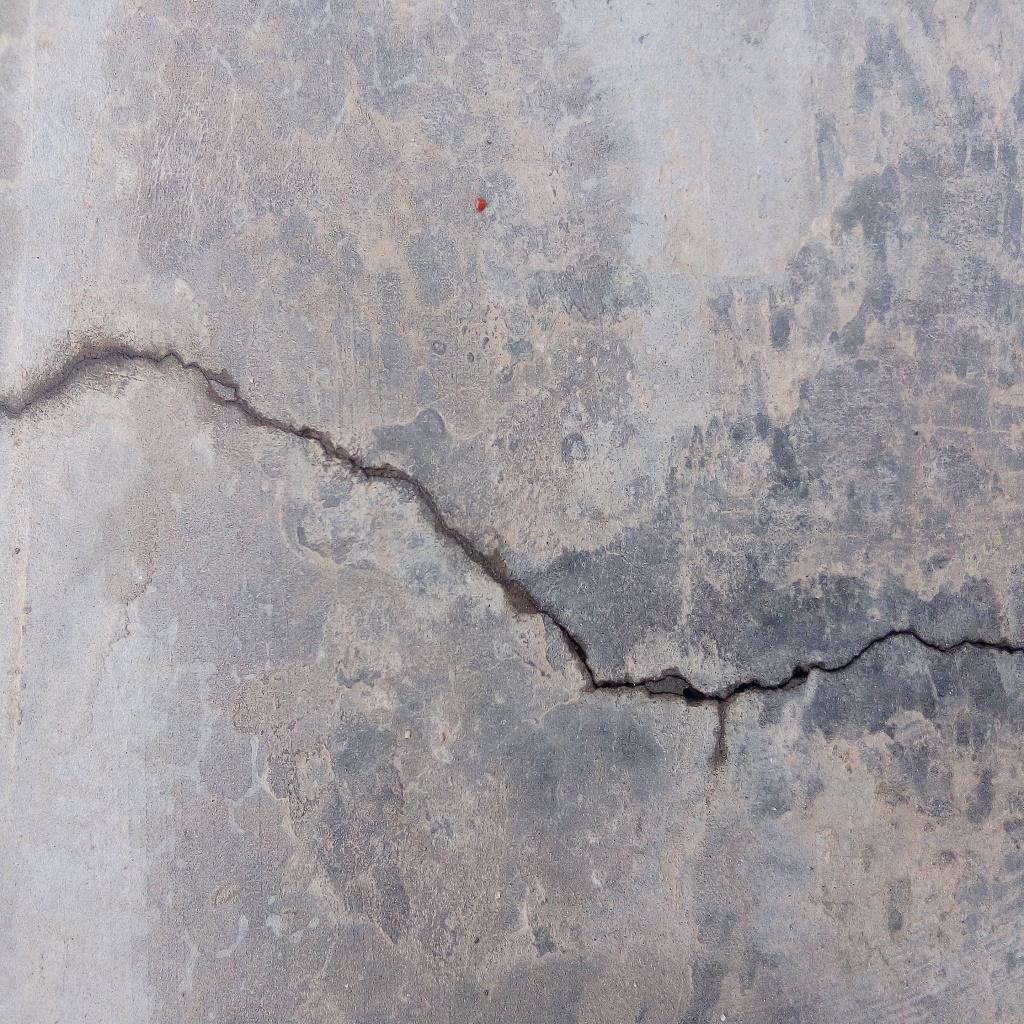Crack: (1, 340, 1024, 707)
